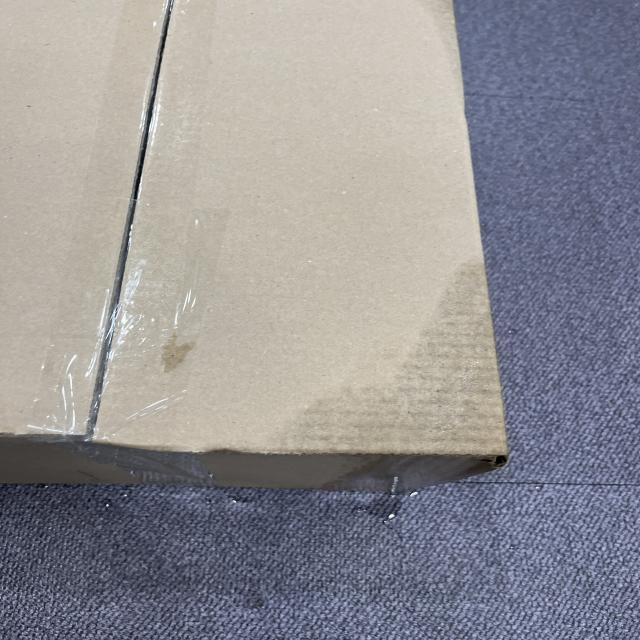wet: (300, 260, 507, 470)
